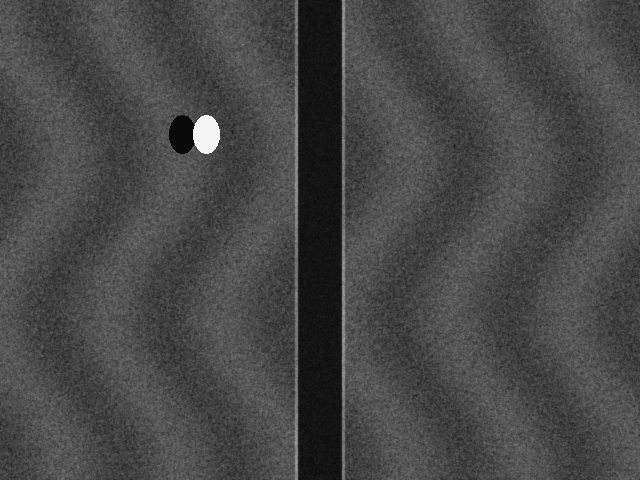Glass Debris: (193, 115, 219, 153)
